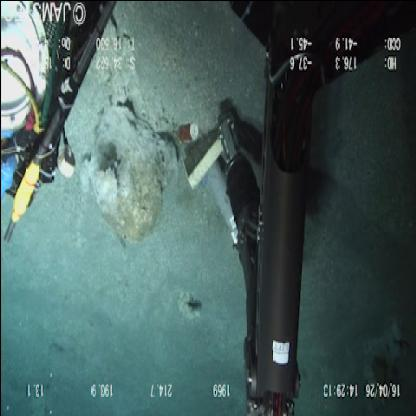Rov: (1, 4, 121, 246), (177, 116, 247, 260)
